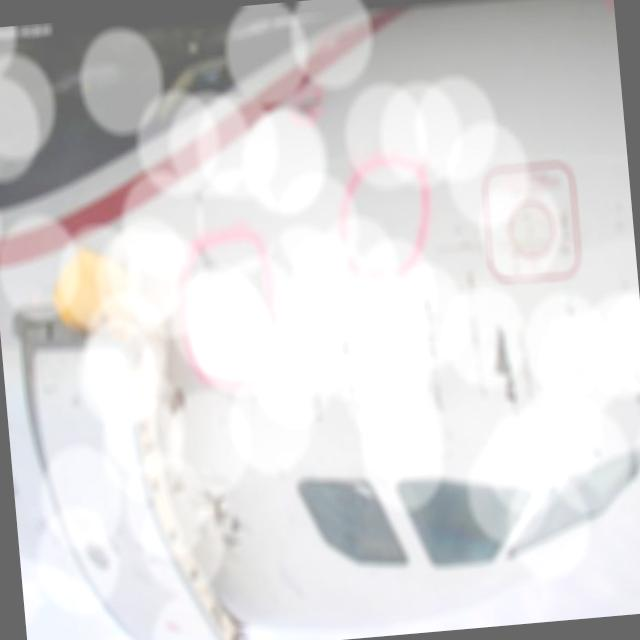crack: (485, 324, 525, 419), (164, 372, 197, 418)
